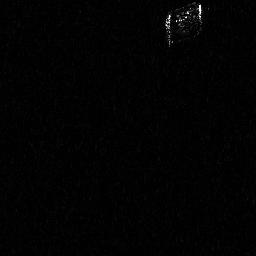ship: (164, 3, 205, 48)
